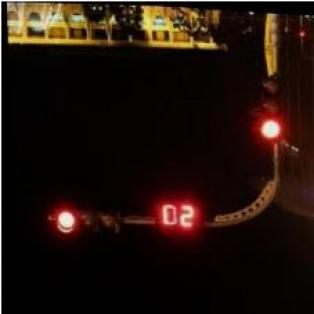Semaforo Rojo: (253, 70, 286, 142), (50, 207, 117, 238)
